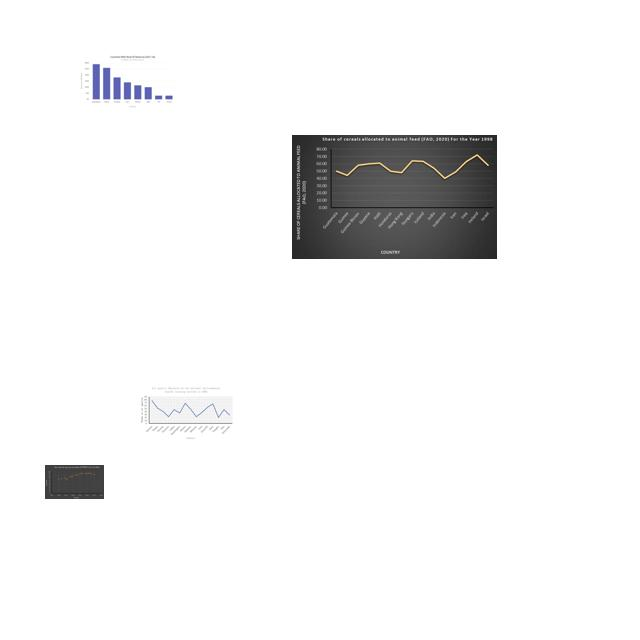Graph: (292, 135, 497, 259), (139, 385, 234, 442), (79, 54, 174, 108), (45, 465, 104, 499)
